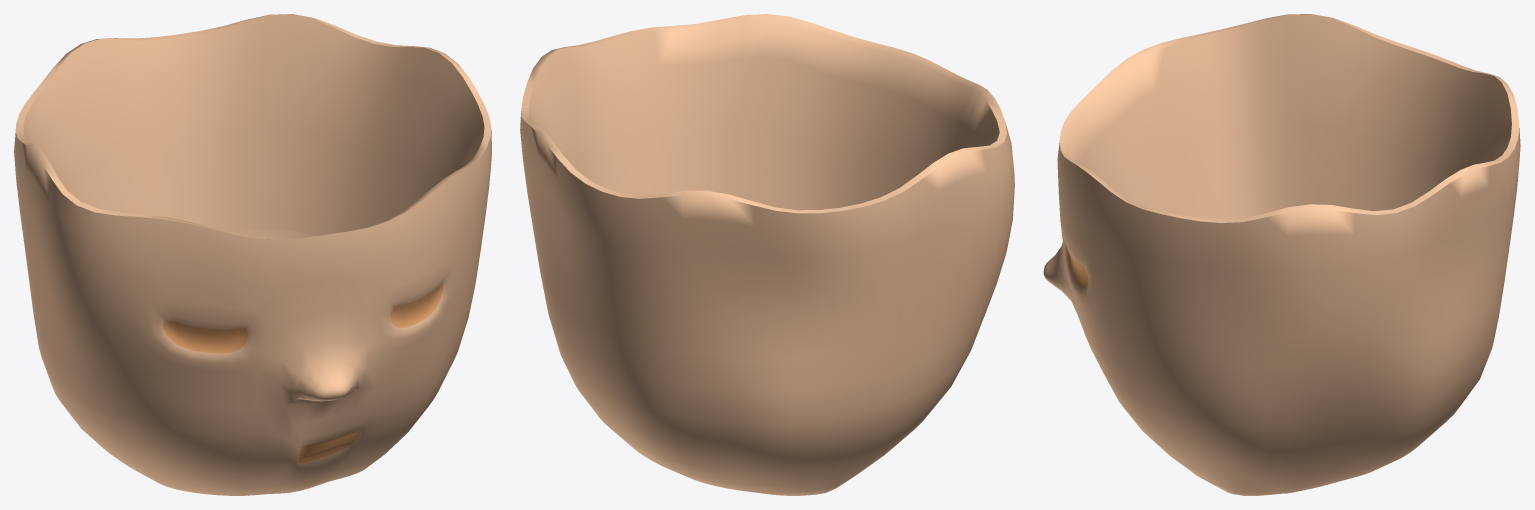
File: 4saksiatma.fbx
The picture shows the model from 3 angles, left to right: view 1: azimuth 30°, elevation 25°; view 2: azimuth 150°, elevation 25°; view 3: azimuth 270°, elevation 25°; orthographic projection. The views are drawn at different scales.
Parts seen in each view (by area): view 1: Cylinder; view 2: Cylinder; view 3: Cylinder.
Part boxes in pixels (x1,y1,x2,y2): Cylinder: [14, 14, 491, 495]; Cylinder: [520, 14, 1014, 495]; Cylinder: [1043, 14, 1520, 495].
Bounding box in the file's own units: 366 × 295 × 364.
